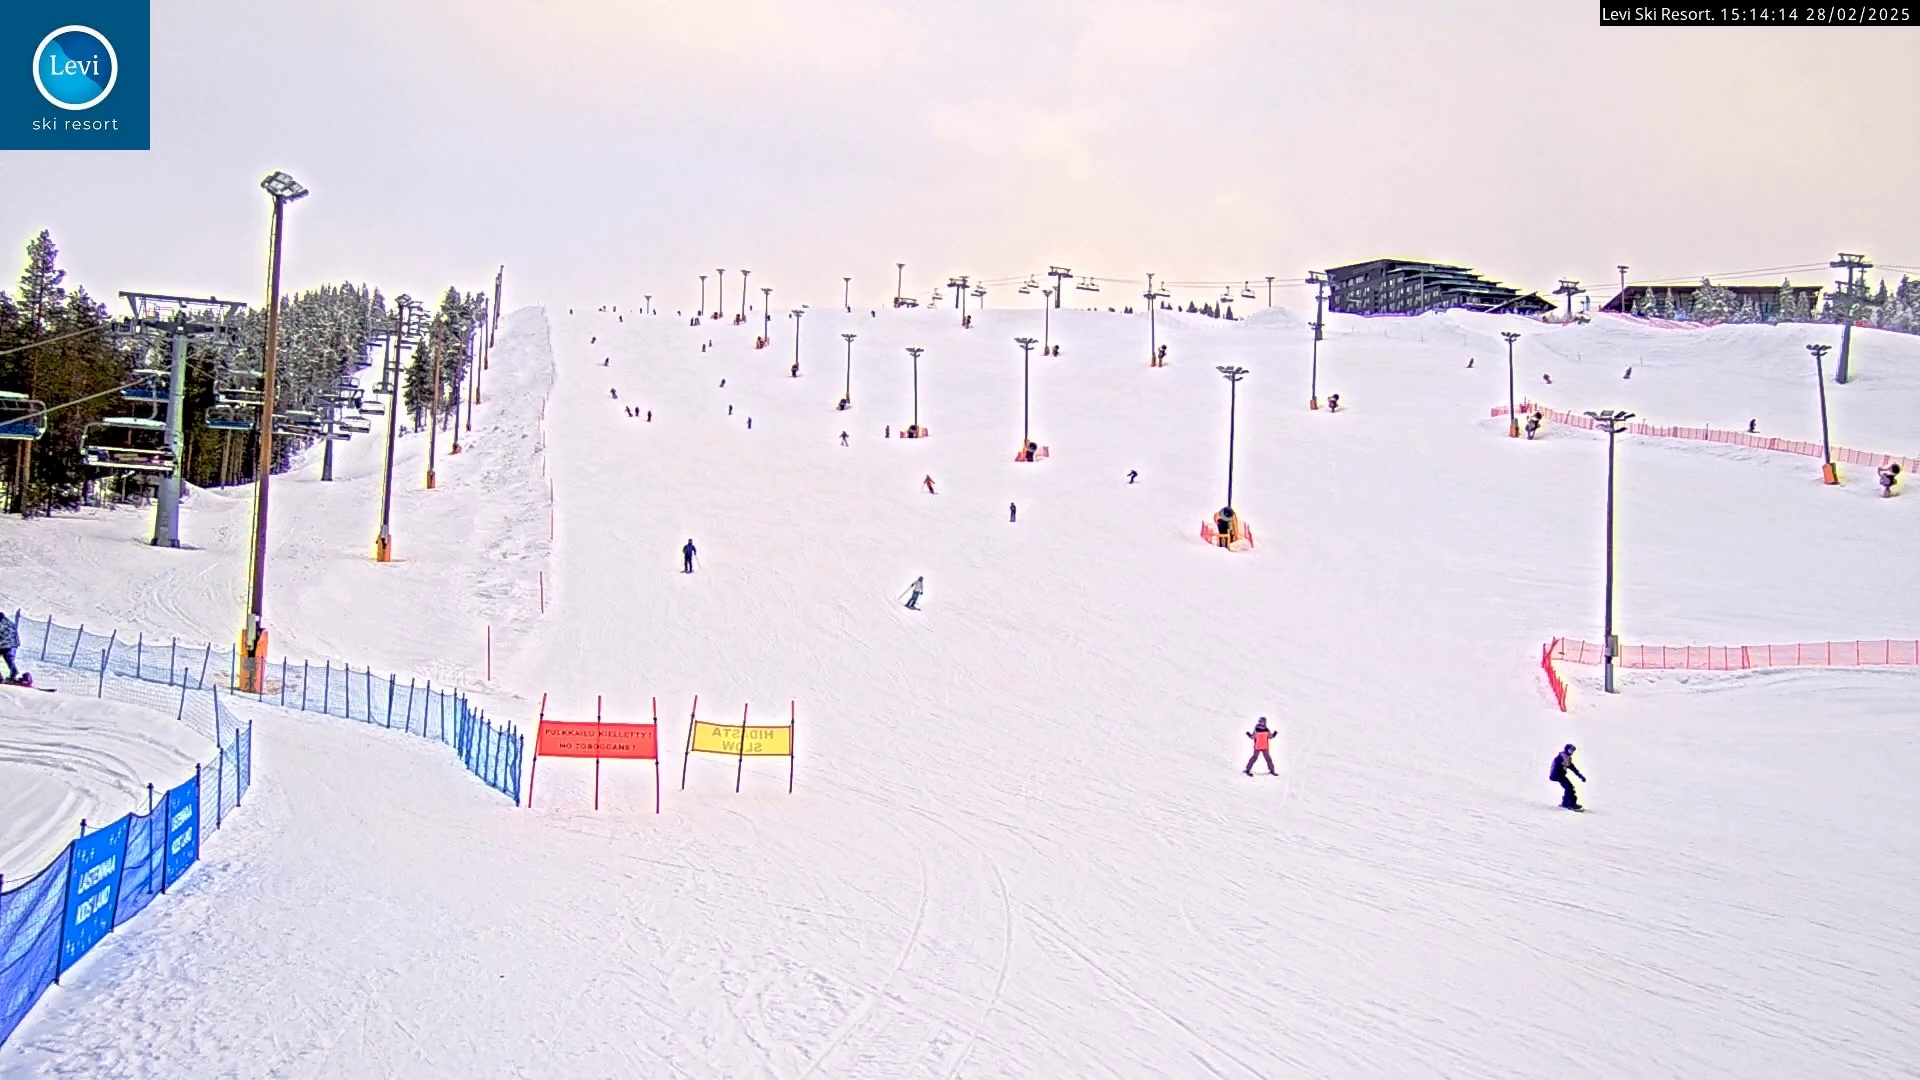skier: (1240, 715, 1282, 778)
snowboarder: (1545, 742, 1593, 816)
